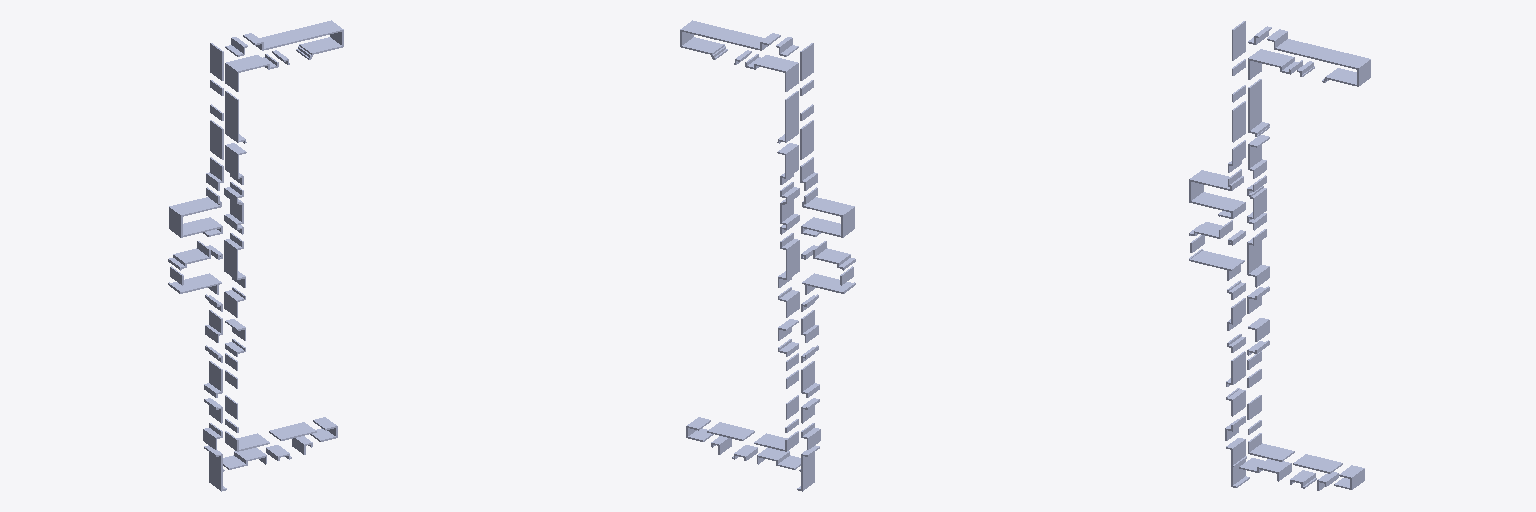
robot.urdf — AutoRecover Of UT_Hallway:
<?xml version="1.0" encoding="utf-8"?>
<!-- This URDF was automatically created by SolidWorks to URDF Exporter! Originally created by [author] ([email redacted]) 
     Commit Version: 1.5.1-0-g916b5db  Build Version: 1.5.7152.31018
     For more information, please see http://wiki.ros.org/sw_urdf_exporter -->
<robot
  name="AutoRecover Of UT_Hallway">
  <link
    name="AutoRecover Of UT_Hallway">
    <inertial>
      <origin
        xyz="-4.1092 -1.38 -2.0568"
        rpy="0 0 0" />
      <mass
        value="25709" />
      <inertia
        ixx="8187100"
        ixy="-6.3501104638376E-11"
        ixz="977800"
        iyy="8624900"
        iyz="-5.11867564096344E-10"
        izz="470450" />
    </inertial>
    <visual>
      <origin
        xyz="0 0 0"
        rpy="1.5707963267949 0 0" />
      <geometry>
        <mesh
          filename="package://AutoRecover Of UT_Hallway/meshes/AutoRecover Of UT_Hallway.STL" />
      </geometry>
      <material
        name="">
        <color
          rgba="0.79216 0.81961 0.93333 1" />
        <texture
          filename="package://AutoRecover Of UT_Hallway/textures/" />
      </material>
    </visual>
    <collision>
      <origin
        xyz="0 0 0"
        rpy="1.5707963267949 0 0" />
      <geometry>
        <mesh
          filename="package://AutoRecover Of UT_Hallway/meshes/AutoRecover Of UT_Hallway.STL" />
      </geometry>
    </collision>
  </link>
</robot>

--- Render facts (derived) ---
3 views of the same robot in one strip: view 1: azimuth 30°, elevation 25°; view 2: azimuth 150°, elevation 25°; view 3: azimuth 330°, elevation 25° (orthographic).
Model AutoRecover Of UT_Hallway with 1 links and 0 joints (none), rooted at AutoRecover Of UT_Hallway, posed all joints at 0.
Links seen in each view (by area): view 1: AutoRecover Of UT_Hallway; view 2: AutoRecover Of UT_Hallway; view 3: AutoRecover Of UT_Hallway.
Boxes of the visible links, x1,y1,x2,y2 form: AutoRecover Of UT_Hallway: [168, 20, 343, 491]; AutoRecover Of UT_Hallway: [680, 20, 855, 491]; AutoRecover Of UT_Hallway: [1189, 21, 1370, 490].
Size in the robot's own frame: 21.12 by 2.76 by 54.28 metres.
Meshes: 1 distinct files referenced, 1 mesh visuals loaded (1 binary STL).